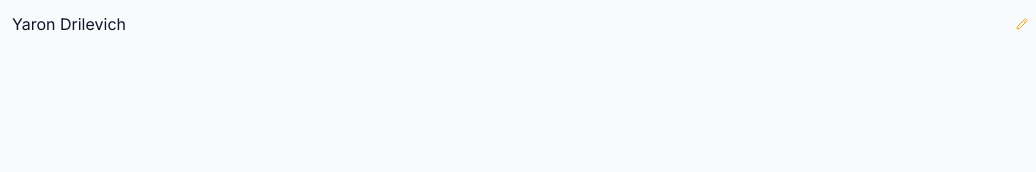
it: EditableField (select) — the exact production repro › a failed/malformed API response produces an inline error state, not a crash
This screenshot has width=1036, height=172.
What coordinates should you click on to do the following:
click the text "Yaron Drilevich"
I would click on:
 (69, 24)
Its box is x1=12 y1=14 x2=126 y2=34.
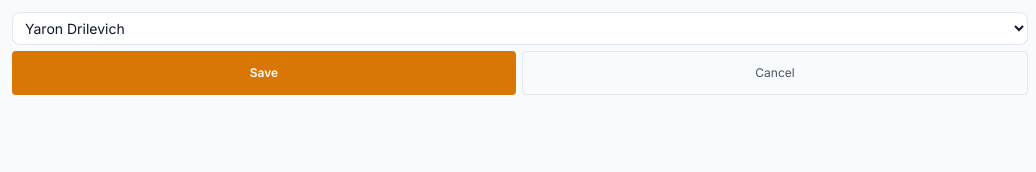
What coordinates should you click on to do the following:
click the button "Save"
I would click on:
 (264, 73)
Its box is x1=12 y1=51 x2=516 y2=95.
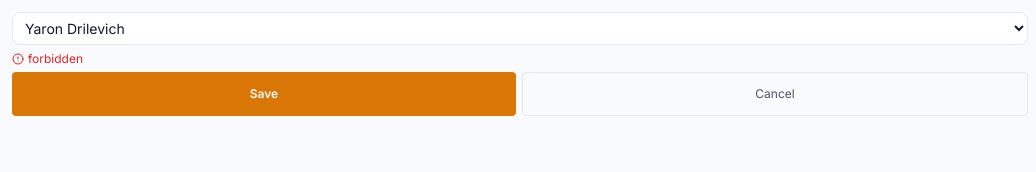
Check: the button "Save" is shown, box x1=12 y1=72 x2=516 y2=116
Check: the text "forbidden" is shown, box x1=12 y1=51 x2=83 y2=66
